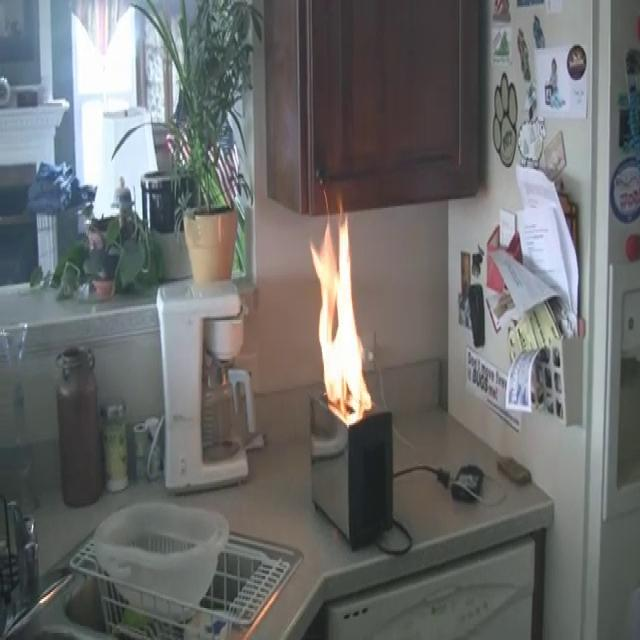fire: (285, 194, 390, 436)
